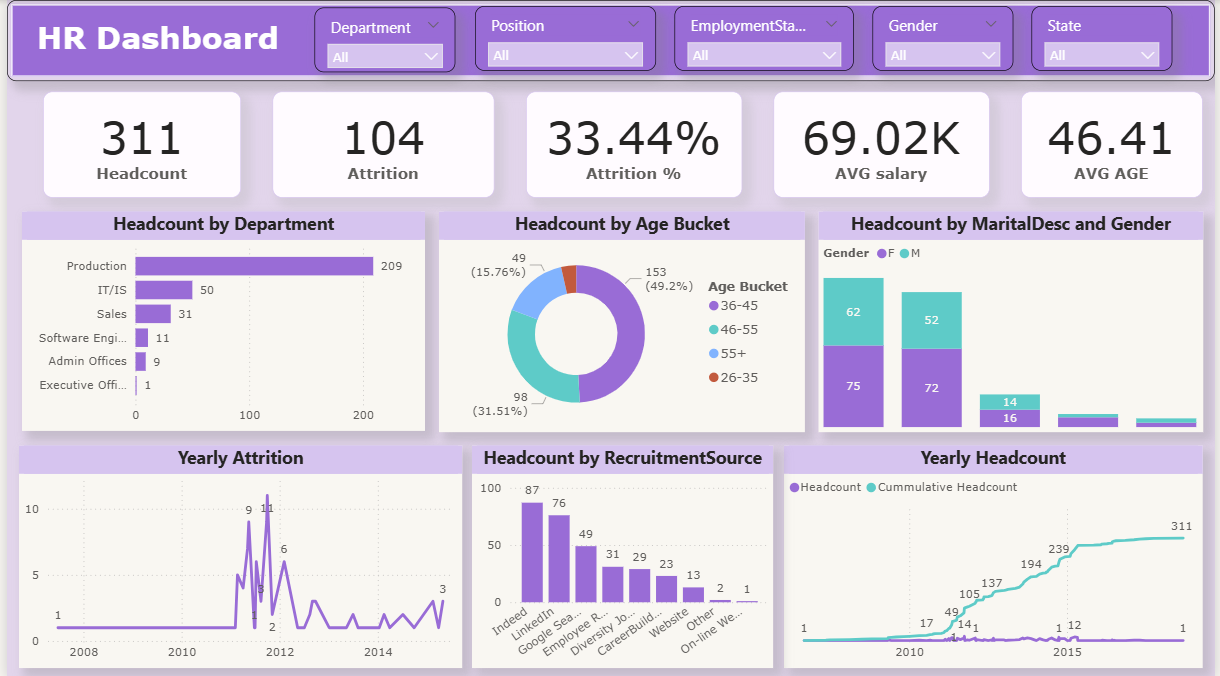

The dashboard page shown, as its layout file describes it:
{"tool":"powerbi","page":{"name":"HR Dashboard","canvas":[1280,720],"ordinal":0},"visuals":[{"type":"shape","box":[0,0,1280.4,85.9],"z":0},{"type":"card","fields":{"Values":["Measure.Headcount"]},"box":[38.2,97,210,112.9],"z":1000},{"type":"card","fields":{"Values":["Measure.Attrition"]},"box":[281.5,97,235.4,112.9],"z":2000},{"type":"card","fields":{"Values":["Measure.Attrition %"]},"box":[550.4,97,229,112.9],"z":3000},{"type":"card","fields":{"Values":["Measure.AVG salary"]},"box":[812.8,97,229,112.9],"z":4000},{"type":"card","fields":{"Values":["Measure.AVG AGE"]},"box":[1075.3,97,192.5,112.9],"z":5000},{"type":"clusteredBarChart","fields":{"Y":["Measure.Headcount"],"Category":["HRDataset_v14.Department"]},"box":[16.4,224.4,427.6,232.6],"z":6000},{"type":"donutChart","fields":{"Category":["HRDataset_v14.Age Bucket"],"Y":["Measure.Headcount"]},"box":[458.7,224.4,388.3,234.3],"z":7000},{"type":"columnChart","fields":{"Category":["HRDataset_v14.MaritalDesc"],"Y":["Measure.Headcount"],"Series":["HRDataset_v14.Gender"]},"box":[860.1,224.4,407.9,234.3],"z":8000},{"type":"lineChart","title":"Yearly Headcount ","fields":{"Y":["Measure.Headcount","Measure.Cummulative Headcount"],"Category":["HRDataset_v14.DateofHire"]},"box":[824,471.8,444,235.9],"z":9000},{"type":"lineChart","title":"Yearly Attrition","fields":{"Y":["Measure.Attrition"],"Category":["HRDataset_v14.DateofHire.Variation.Date Hierarchy.Year","HRDataset_v14.DateofHire.Variation.Date Hierarchy.Quarter","HRDataset_v14.DateofHire.Variation.Date Hierarchy.Month","HRDataset_v14.DateofHire.Variation.Date Hierarchy.Day"]},"box":[13.1,471.8,470.2,235.9],"z":10000},{"type":"columnChart","fields":{"Y":["Measure.Headcount"],"Category":["HRDataset_v14.RecruitmentSource"]},"box":[493.1,471.8,319.5,235.9],"z":11000},{"type":"slicer","fields":{"Values":["HRDataset_v14.Department"]},"box":[326.1,8,149.5,68.4],"z":12000},{"type":"slicer","fields":{"Values":["HRDataset_v14.Gender"]},"box":[917.1,6.6,149.1,68.8],"z":13000},{"type":"slicer","fields":{"Values":["HRDataset_v14.Position"]},"box":[495.5,6.6,191.7,68.8],"z":14000},{"type":"slicer","fields":{"Values":["HRDataset_v14.EmploymentStatus"]},"box":[707.2,6.6,190,68.8],"z":15000},{"type":"slicer","fields":{"Values":["HRDataset_v14.State"]},"box":[1086.2,6.6,149.1,68.8],"z":16000},{"type":"textbox","box":[17.5,14.3,295.9,54.1],"z":17000}]}

Visuals, with their boxes in screenshot pixels (x1, y1, x2, y2), scaled from the page's 1280x720 canvas onto the 1220x676 screenshot:
shape: (0,0,1219,81)
card - Measure.Headcount: (36,91,237,197)
card - Measure.Attrition: (268,91,493,197)
card - Measure.Attrition %: (525,91,743,197)
card - Measure.AVG salary: (775,91,993,197)
card - Measure.AVG AGE: (1025,91,1208,197)
clusteredBarChart - Measure.Headcount x HRDataset_v14.Department: (16,211,423,429)
donutChart - HRDataset_v14.Age Bucket x Measure.Headcount: (437,211,807,431)
columnChart - HRDataset_v14.MaritalDesc x Measure.Headcount: (820,211,1209,431)
"Yearly Headcount " lineChart: (785,443,1209,664)
"Yearly Attrition" lineChart: (12,443,461,664)
columnChart - Measure.Headcount x HRDataset_v14.RecruitmentSource: (470,443,775,664)
slicer - HRDataset_v14.Department: (311,8,453,72)
slicer - HRDataset_v14.Gender: (874,6,1016,71)
slicer - HRDataset_v14.Position: (472,6,655,71)
slicer - HRDataset_v14.EmploymentStatus: (674,6,855,71)
slicer - HRDataset_v14.State: (1035,6,1177,71)
textbox: (17,13,299,64)
